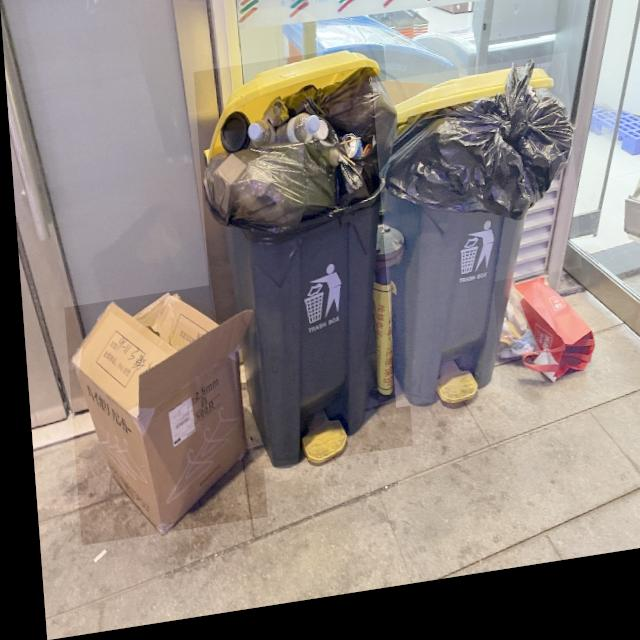garbage: (59, 286, 259, 547), (488, 285, 590, 406)
overflow: (192, 55, 405, 481), (370, 71, 583, 420)
